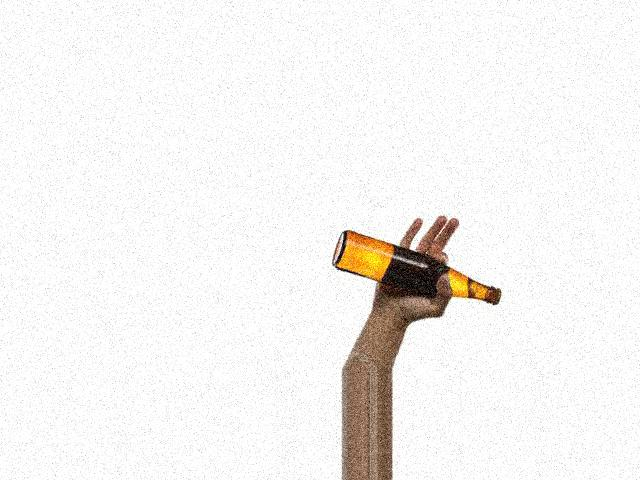beer: (332, 232, 497, 303)
